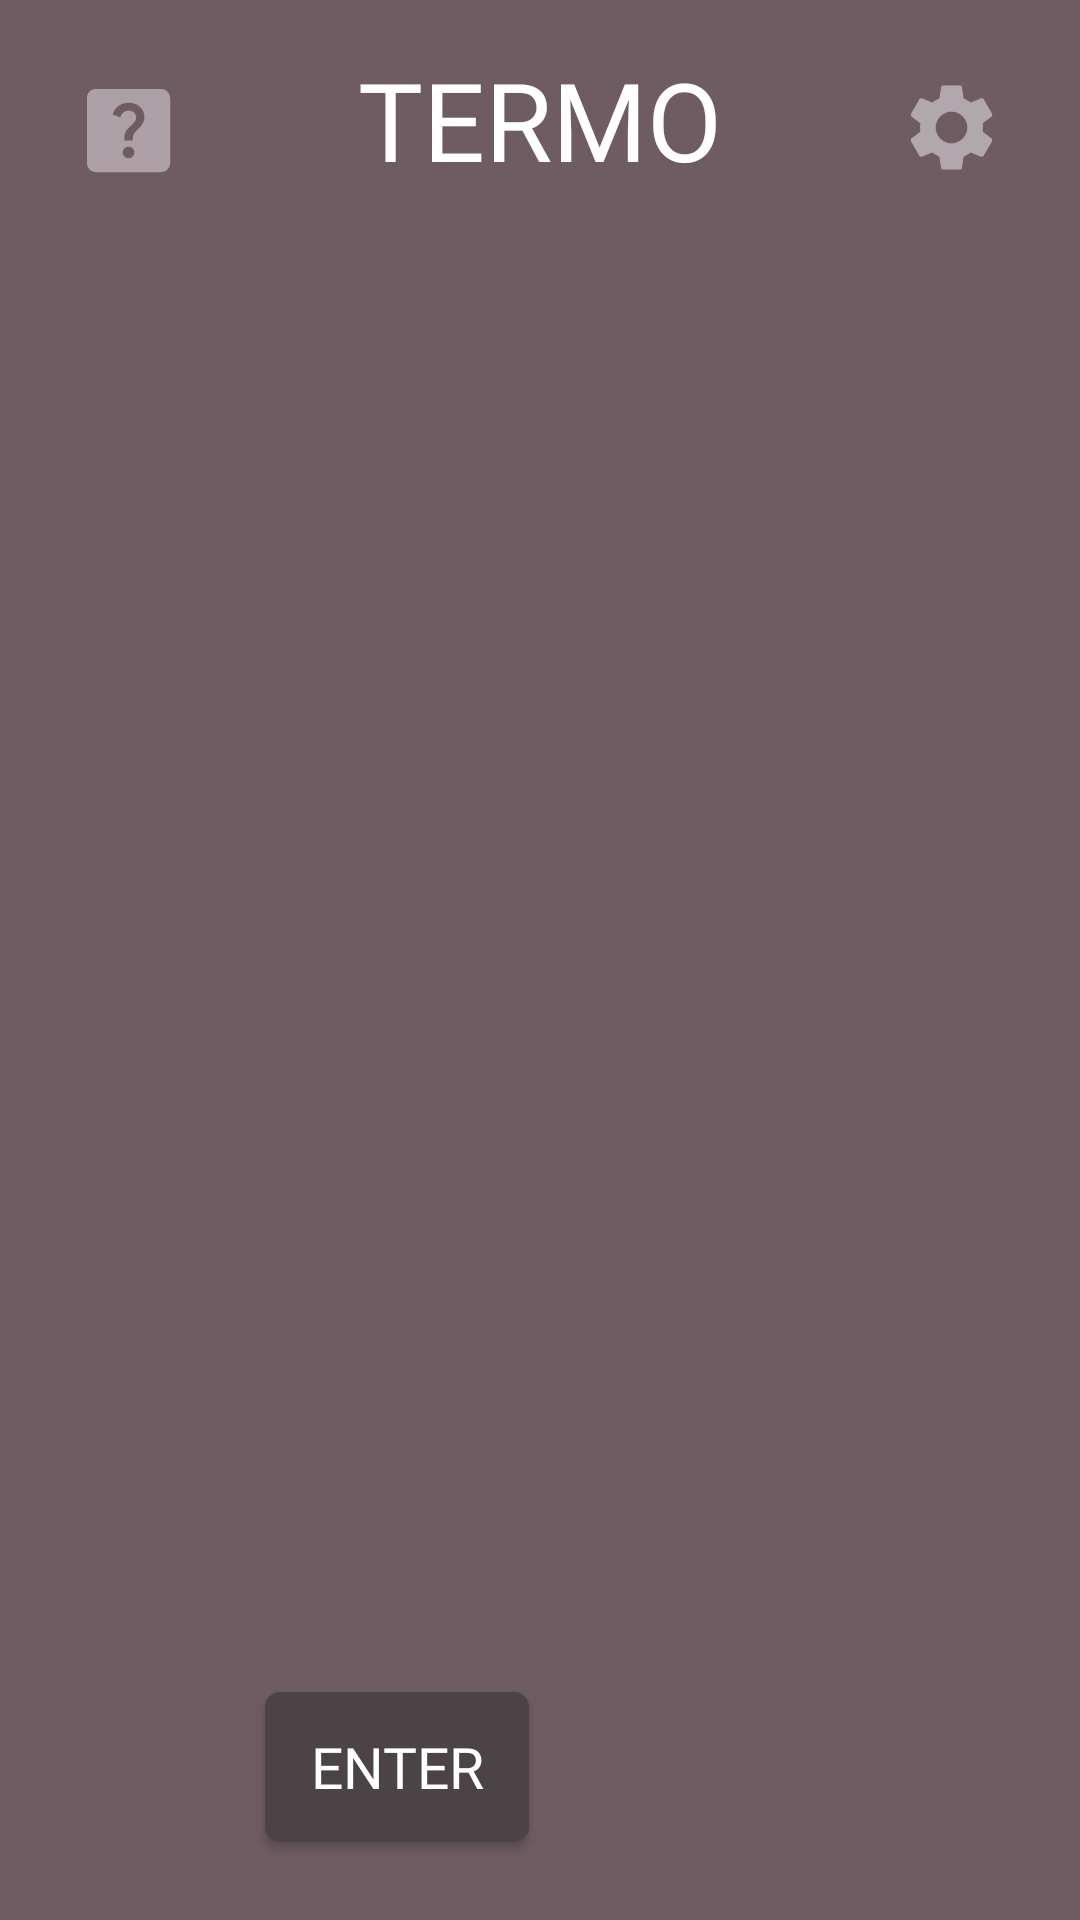

Icon bounding boxes for this 1080*1920 phone screenshot, format {"x1": x1, "y1": y1, "x2": x2, "y2": y2}:
help center: {"x1": 87, "y1": 89, "x2": 170, "y2": 172}
settings: {"x1": 911, "y1": 85, "x2": 992, "y2": 170}
